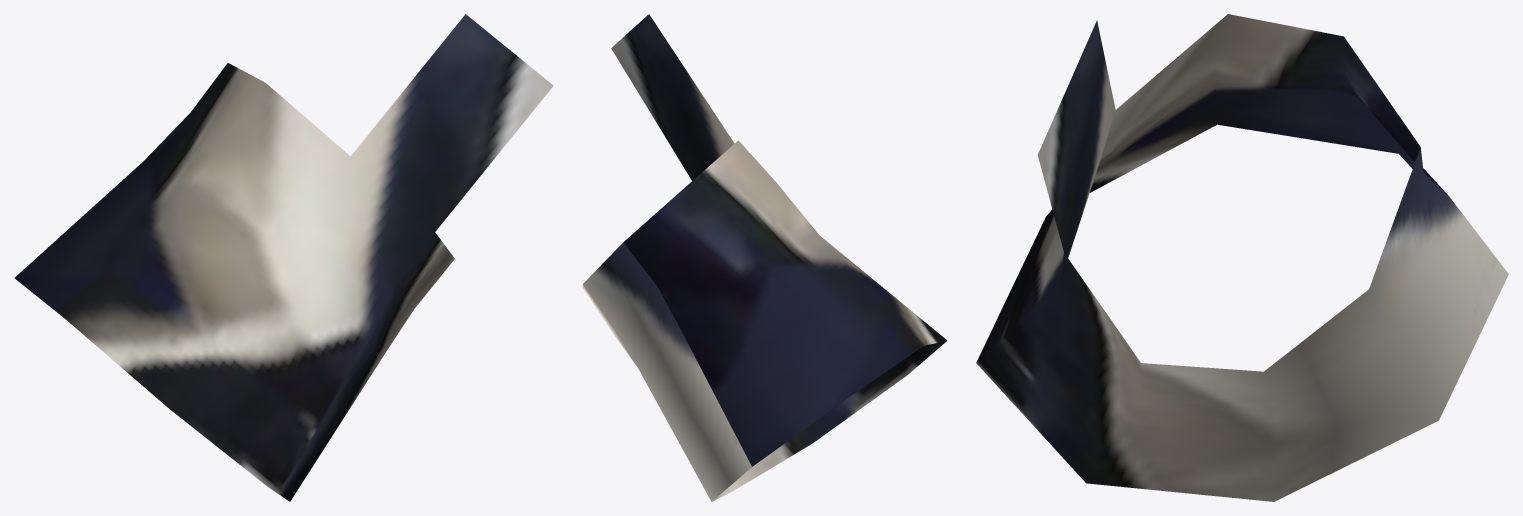
The model's file is codoD.obj.
3 renders of one model, left to right at view 1: azimuth 30°, elevation 25°; view 2: azimuth 150°, elevation 25°; view 3: azimuth 270°, elevation 25°, orthographic. The views are drawn at different scales.
Parts seen in each view (by area): view 1: codoD; view 2: codoD; view 3: codoD.
Part boxes in pixels (x1,y1,x2,y2): codoD: (14,14,553,501); codoD: (582,14,947,501); codoD: (976,14,1508,501).
Size of the model in its own units: 0.6573 by 0.6688 by 0.5516.
Materials: 1 (1 with a texture image).
